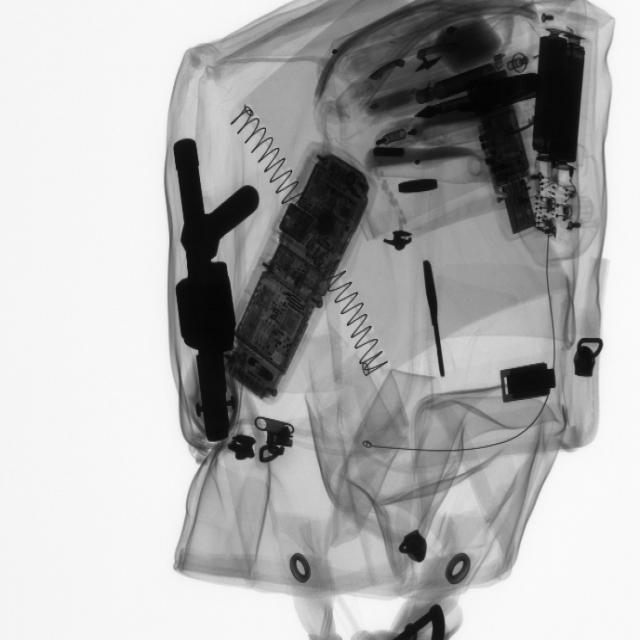GUN: (164, 137, 252, 444)
